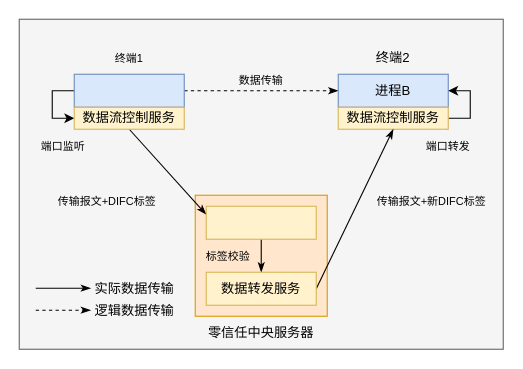
The diagram is 523 pixels wide and 369 high, and some of its shapes have lost their labels. The centre of each missing label's shape, as x and y in pixels:
DIFC控制程序: pixel 260 222
进程A: pixel 128 90
